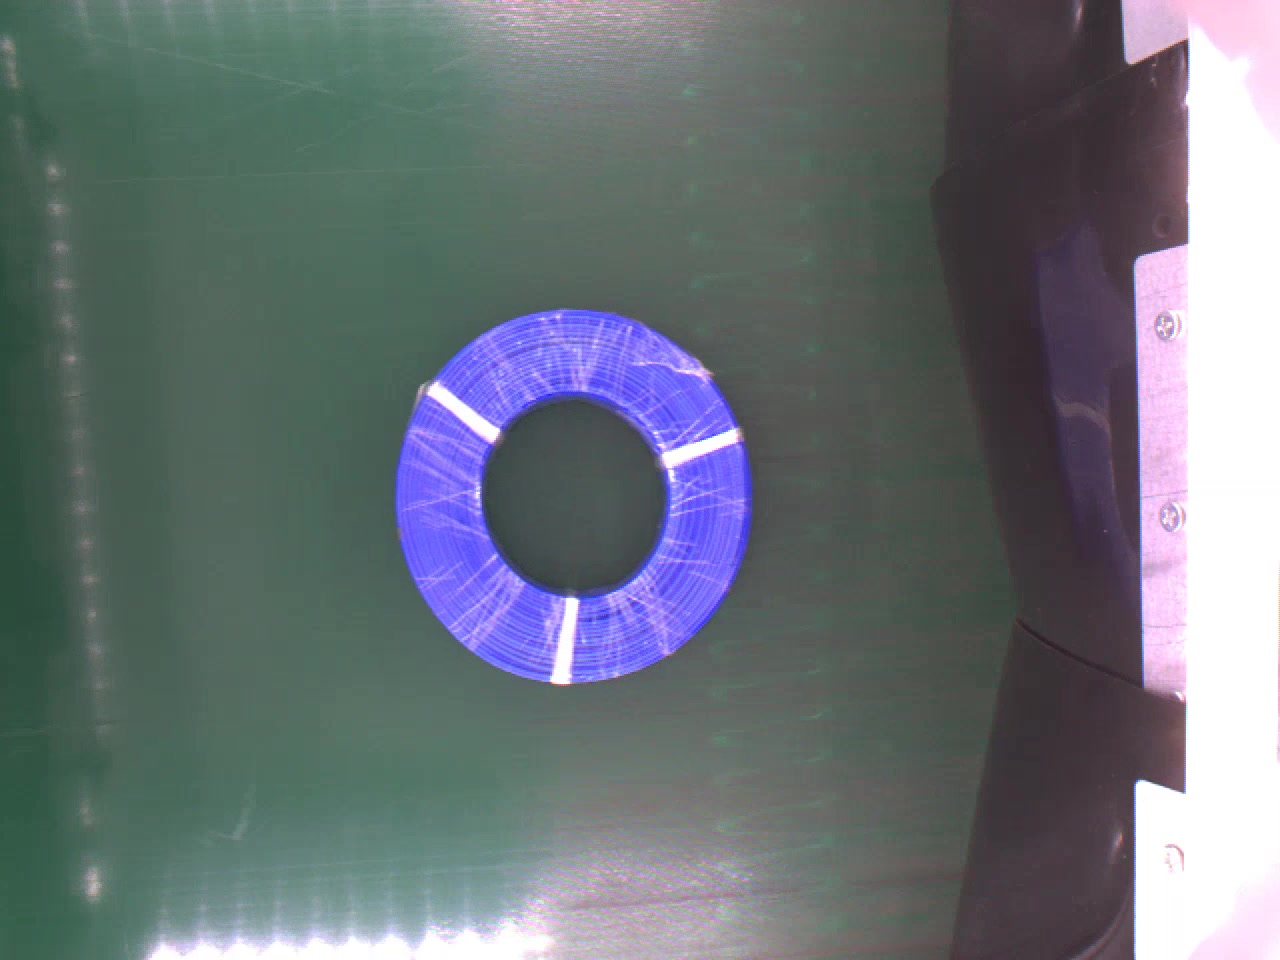blue: (377, 304, 759, 688)
